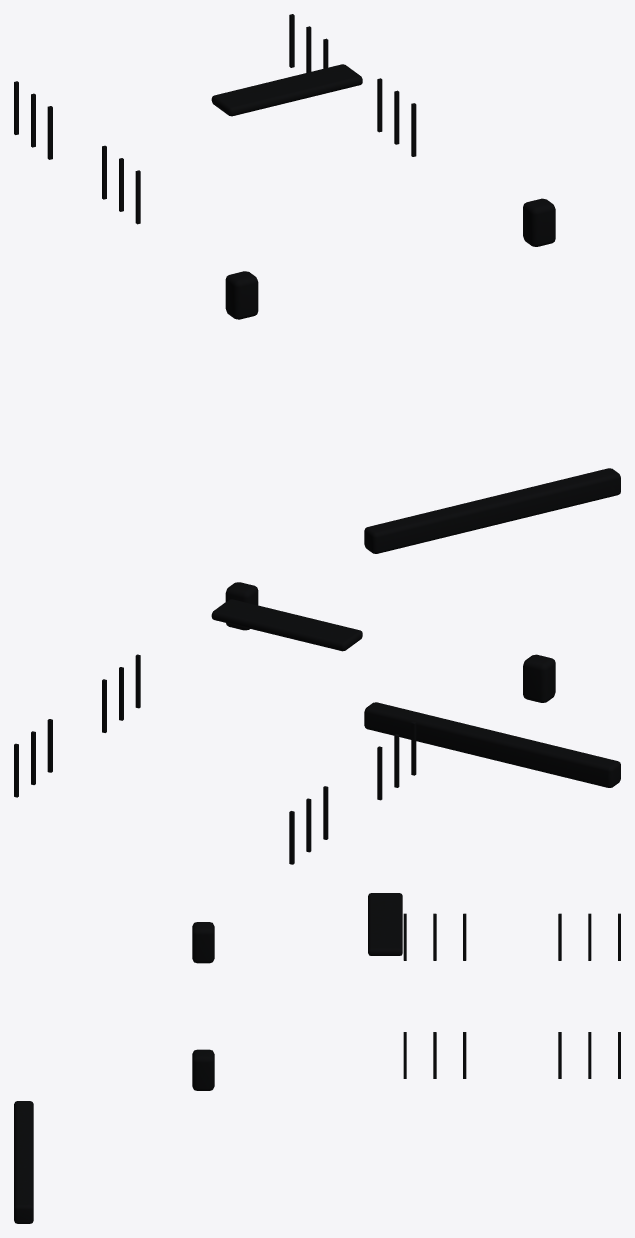
3 views of the same model, one above another, from view 1: azimuth 30°, elevation 25°; view 2: azimuth 150°, elevation 25°; view 3: azimuth 270°, elevation 25° (orthographic). The views are drawn at different scales.
Size of the model in its own units: 2.64 by 2.24 by 4.9.
Materials: 1 (1 with a texture image).
